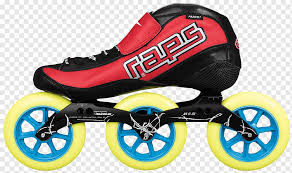roller_blade: (4, 3, 292, 170)
